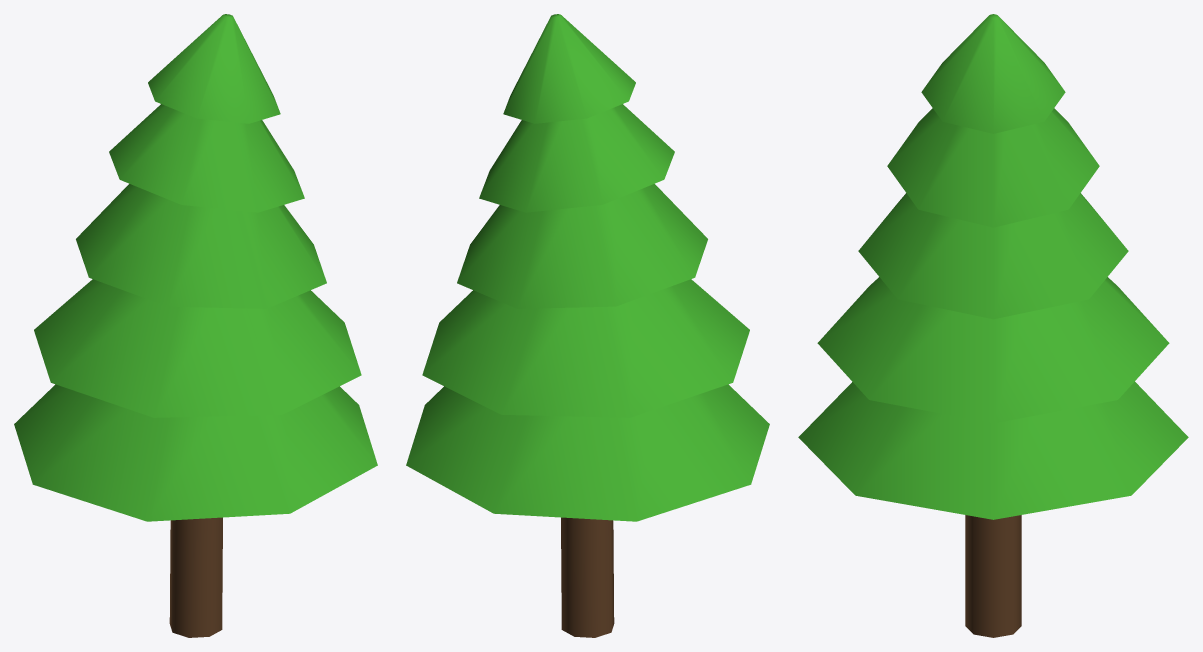
Rendered from Tree.fbx.
The picture shows the model from 3 angles, left to right: view 1: azimuth 30°, elevation 25°; view 2: azimuth 150°, elevation 25°; view 3: azimuth 270°, elevation 25°; orthographic projection. The views are drawn at different scales.
Parts seen in each view (by area): view 1: Cylinder; view 2: Cylinder; view 3: Cylinder.
Boxes of the visible parts, x1,y1,x2,y2 form: Cylinder: [14, 14, 377, 637]; Cylinder: [406, 14, 769, 637]; Cylinder: [798, 14, 1188, 637].
Bounding box in the file's own units: 1075 × 1901 × 1075.
